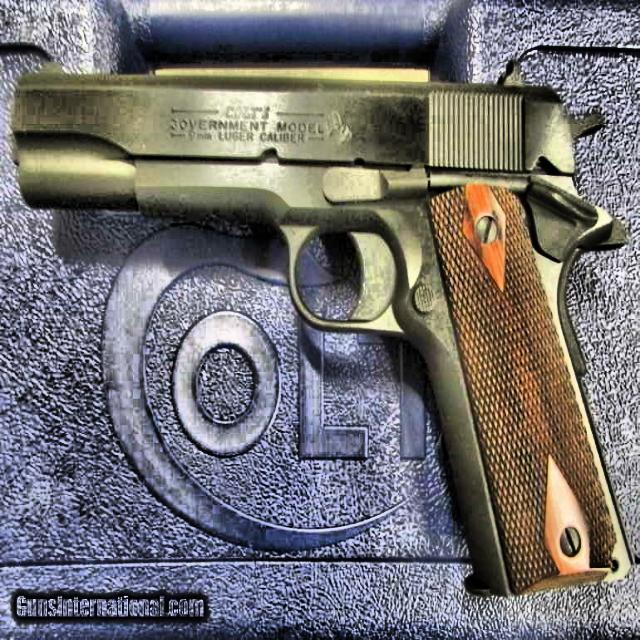Colt m1911: (9, 56, 632, 598)
